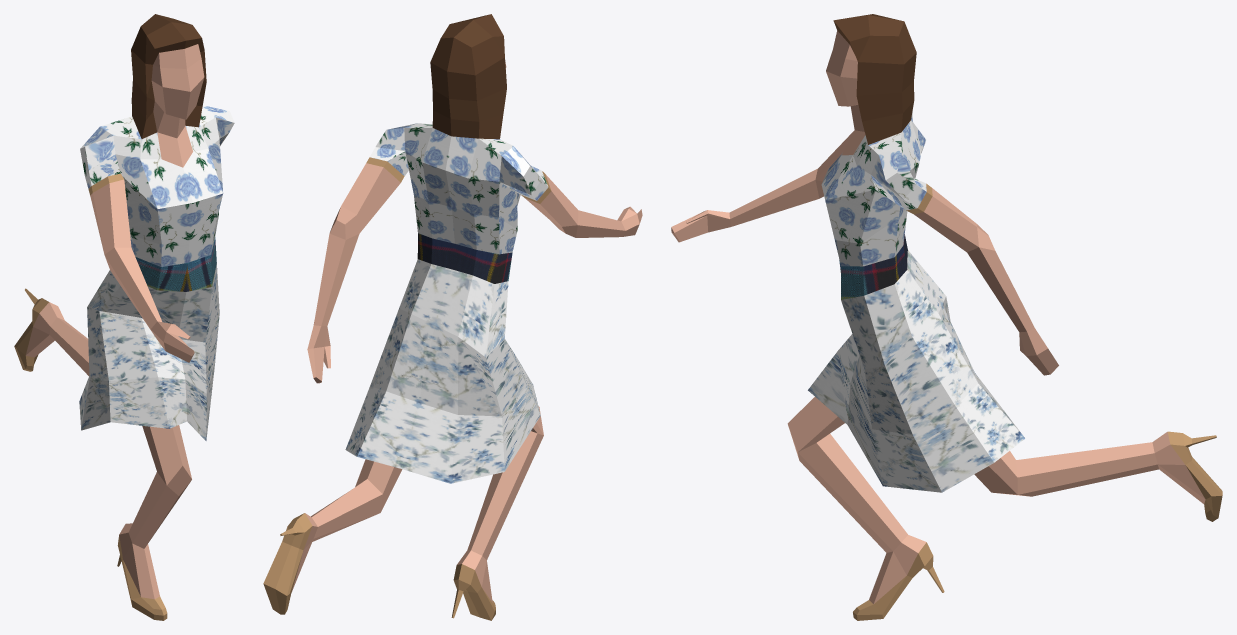
The model's file is SpringWomanC.005.glb.
3 renders of one model, left to right at view 1: azimuth 30°, elevation 25°; view 2: azimuth 150°, elevation 25°; view 3: azimuth 270°, elevation 25°, orthographic. The views are drawn at different scales.
Visible parts, largest first — view 1: SpringWomanC.006; view 2: SpringWomanC.006; view 3: SpringWomanC.006.
Boxes of the visible parts, x1,y1,x2,y2 form: SpringWomanC.006: (14,14,234,620); SpringWomanC.006: (263,14,642,620); SpringWomanC.006: (671,14,1222,620).
Bounding box in the file's own units: 0.4657 × 1.53 × 1.25.
Materials: 1 (1 with a texture image).
